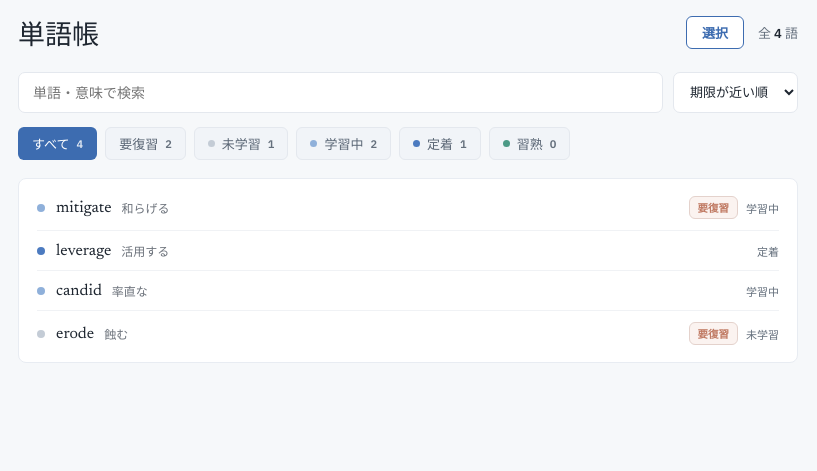
Test: <WordbookScreen/> › does not open the detail card while selection mode is on, and clears picks on toggle-off
Step 1. Click the button with test id "wordbook-select-toggle" → (715,32), box [686, 16, 744, 49]
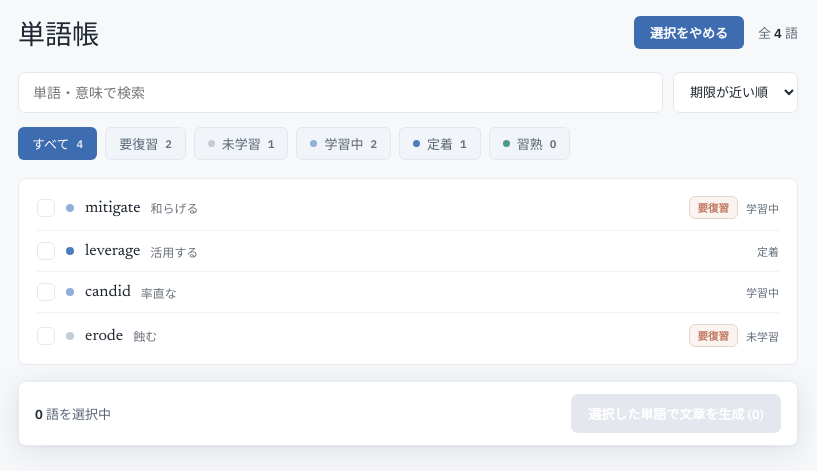
Step 2. Click the button with test id "word-row-mitigate" → (113,208), box [37, 185, 779, 230]
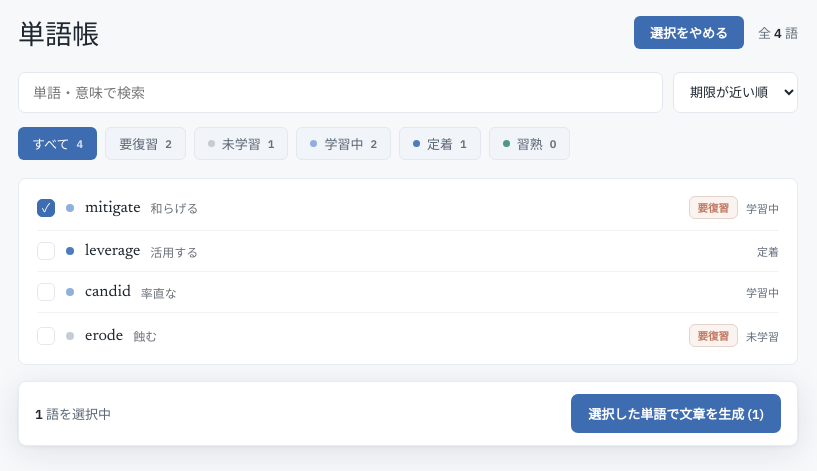
Expected: the text with test id "wordbook-selected-count" reads "1", [35, 406, 43, 423]
// Leaving selection mode clears the picks and restores row-click-to-open.
Step 3. Click the button with test id "wordbook-select-toggle" → (689,32), box [634, 16, 744, 49]
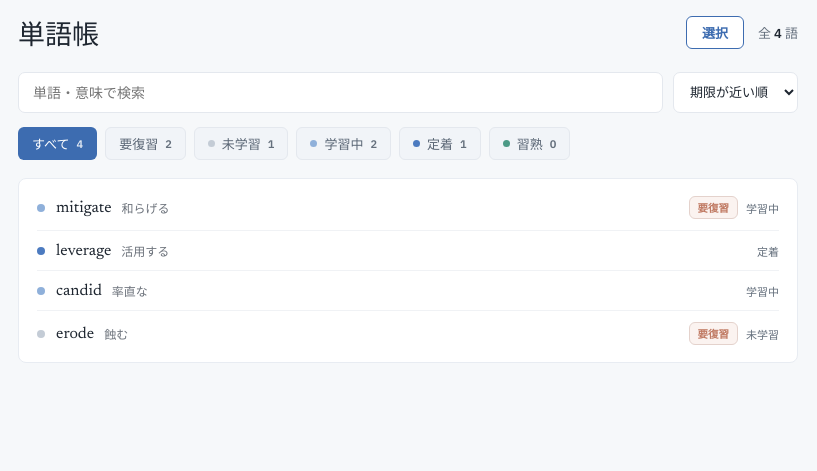
Expected: the element with test id "wordbook-selection-footer" is gone
Step 4. Click the button with test id "wordbook-select-toggle" → (715,32), box [686, 16, 744, 49]
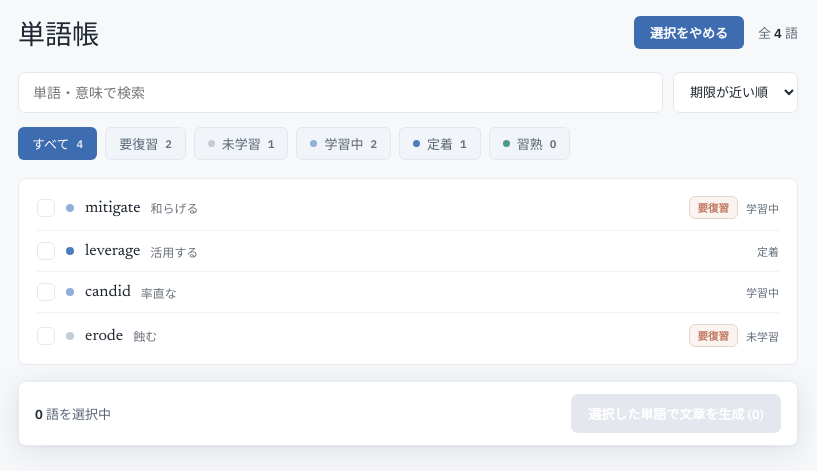
Expected: the text with test id "wordbook-selected-count" reads "0", [35, 406, 43, 423]
